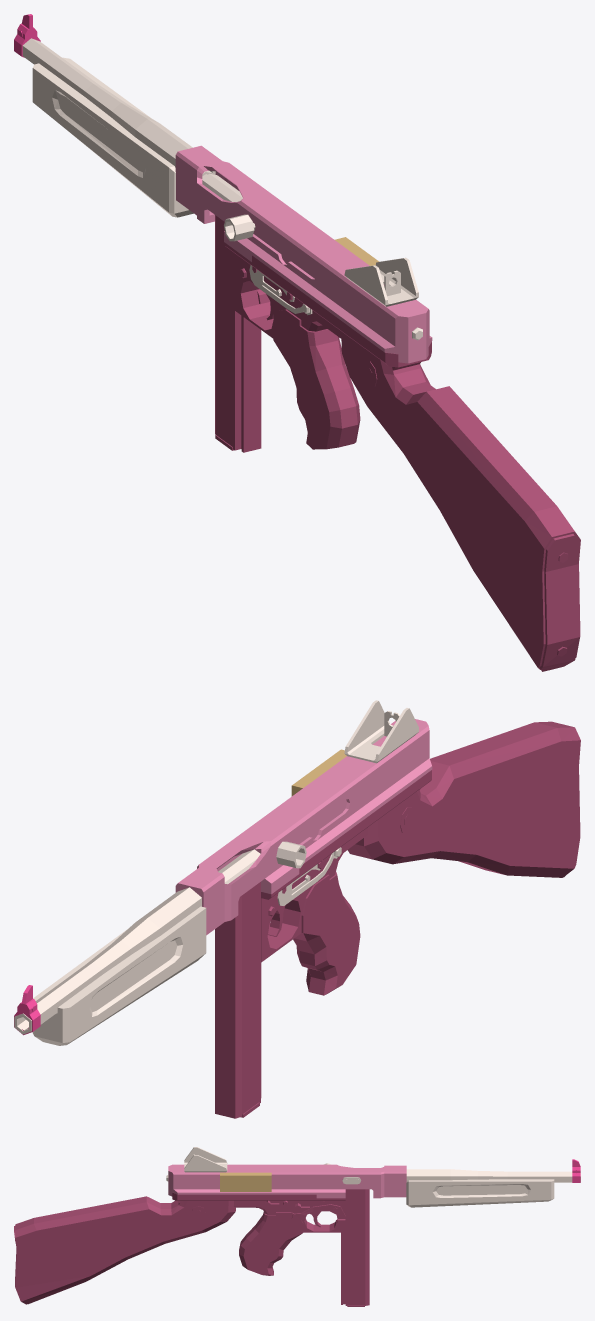
File: SMG_Thompson.obj
3 views of the same model, one above another, from view 1: azimuth 30°, elevation 25°; view 2: azimuth 150°, elevation 25°; view 3: azimuth 270°, elevation 25° (orthographic). The views are drawn at different scales.
Visible parts, largest first — view 1: Grip, Mag, Panel, Body; view 2: Grip, Mag, Panel, Body, Bolt, Accent; view 3: Grip, Mag, Panel, Body, Bolt.
Part boxes in pixels (box(x1,y1,x2,y2)): Grip: box(341, 331, 580, 671); Mag: box(215, 215, 431, 452); Panel: box(22, 38, 422, 340); Body: box(175, 145, 432, 363); Grip: box(347, 721, 580, 877); Mag: box(215, 770, 431, 1118); Panel: box(14, 700, 418, 1045); Body: box(175, 719, 432, 935); Bolt: box(291, 749, 346, 796); Accent: box(14, 985, 40, 1035); Grip: box(14, 1196, 235, 1304); Mag: box(172, 1189, 369, 1306); Panel: box(166, 1147, 580, 1207); Body: box(168, 1164, 406, 1198); Bolt: box(220, 1172, 271, 1191).
Bounding box in the file's own units: 0.1461 × 0.6509 × 2.2.
